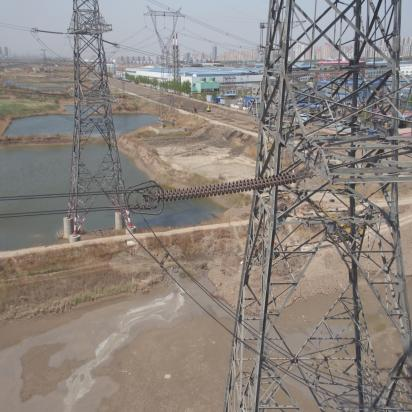insulator: (153, 171, 304, 205)
